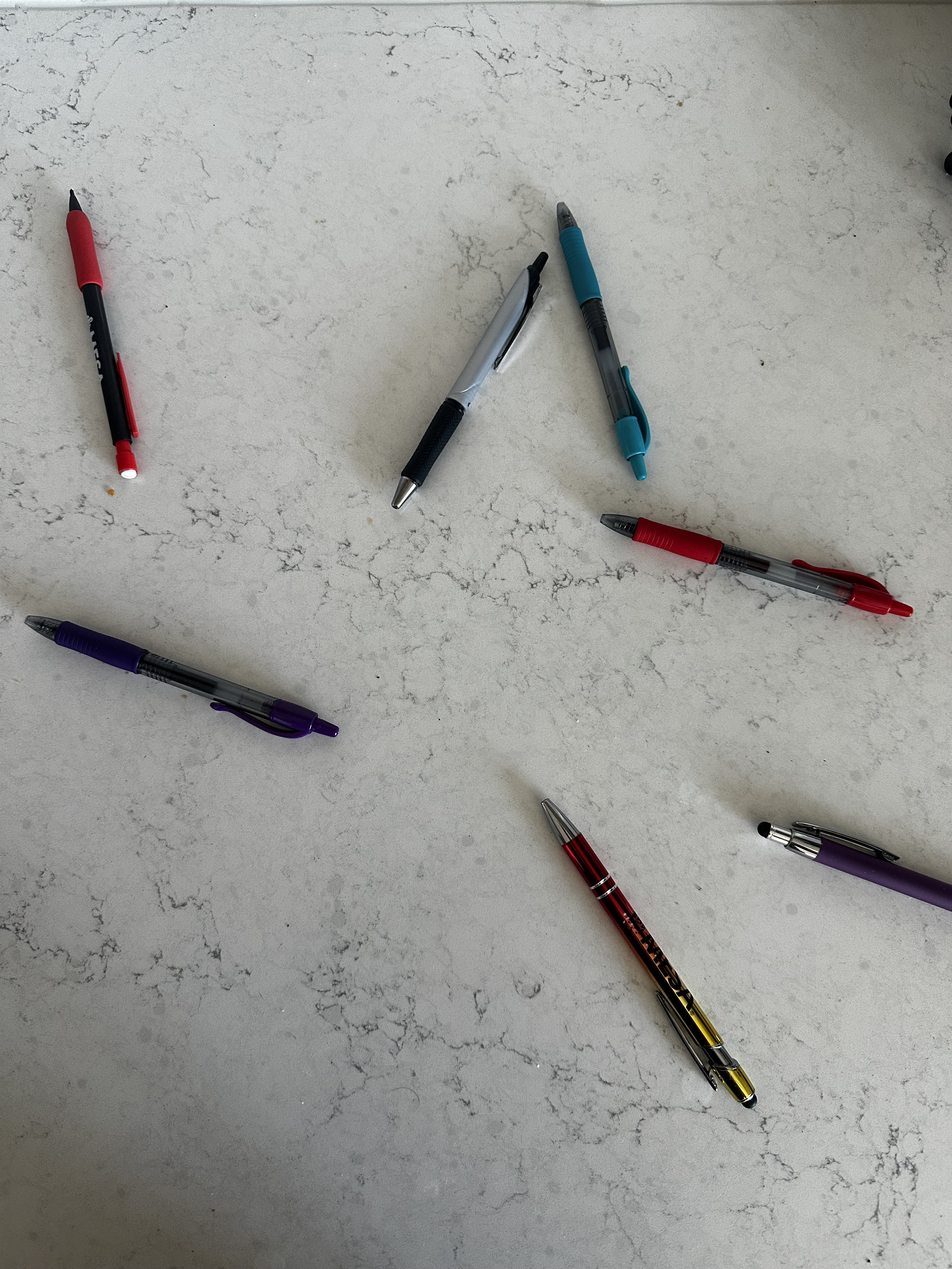Blue Pen: (555, 200, 656, 481)
Cypres Pen Purple: (758, 821, 952, 914)
MESA Multicolored pen: (532, 793, 765, 1107)
Purple Pen: (25, 608, 342, 755)
Red Mechanical Pencil: (61, 187, 144, 481)
Red Pen: (595, 507, 912, 626)
Silver Pen: (393, 248, 552, 512)
